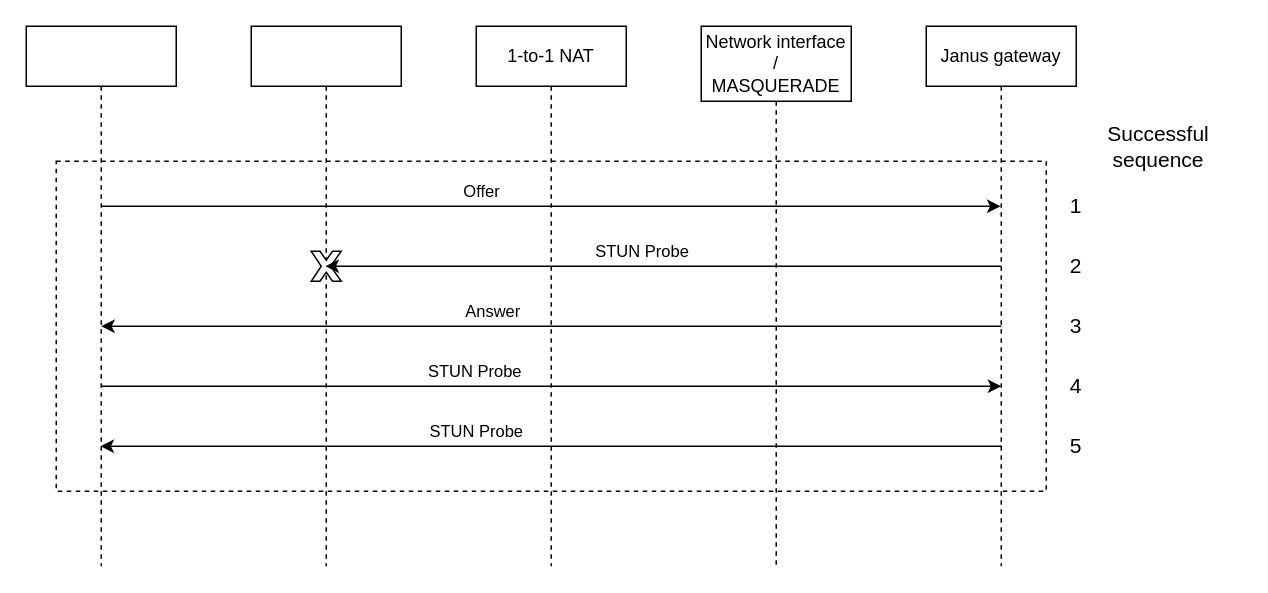
This 1268x593 diagram has some shape labels left out. The shapes that lost their labels are listed below. From the top down, each one's box as (x1, y1, x2, y2) in pixels, then its label:
(25, 25, 176, 566): Janus client
(250, 25, 401, 566): Firewall
